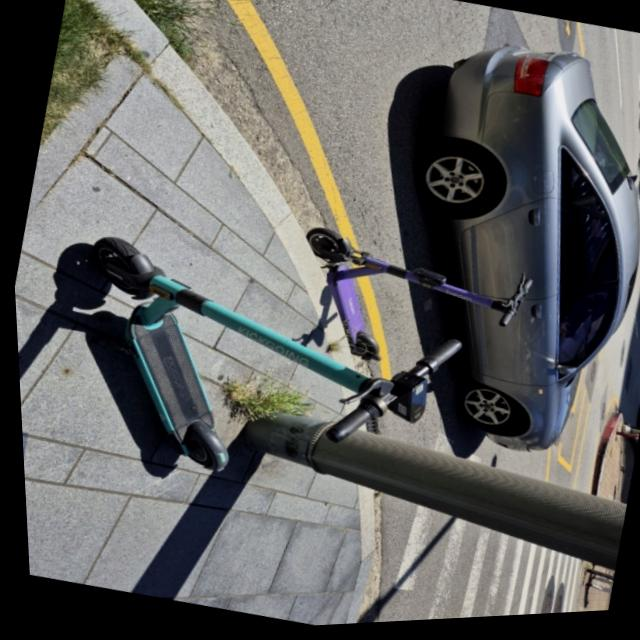crosswalk: (381, 518, 594, 622)
kickboard_no: (281, 228, 539, 347)
kickboard_ok: (46, 234, 231, 474)
